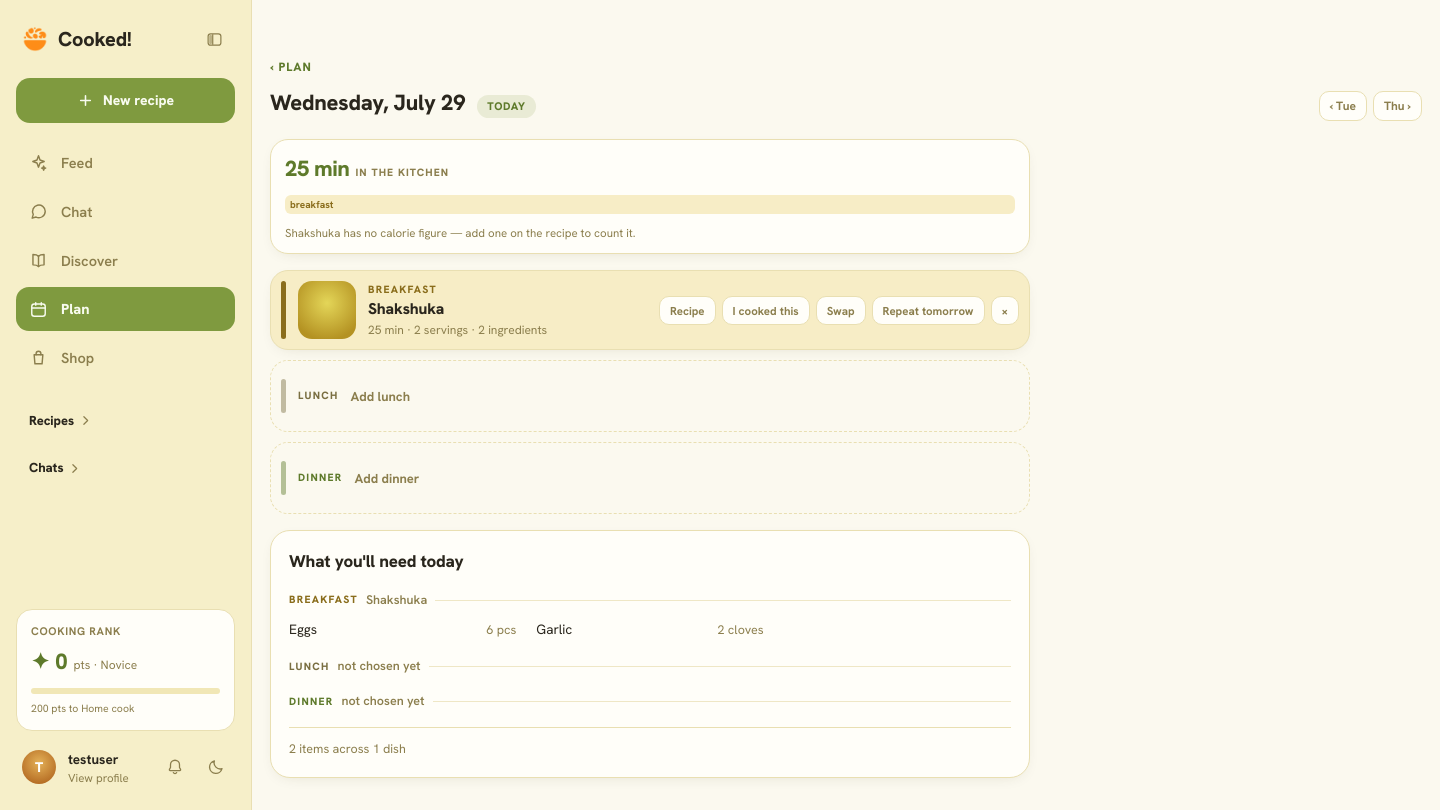
Test: the day page › names the next slot before you pick, when one is left
The width and height of the screenshot is (1440, 810).
Click the button with aria-label "add a recipe for lunch".
click(318, 395)  # box [270,360,1030,432]
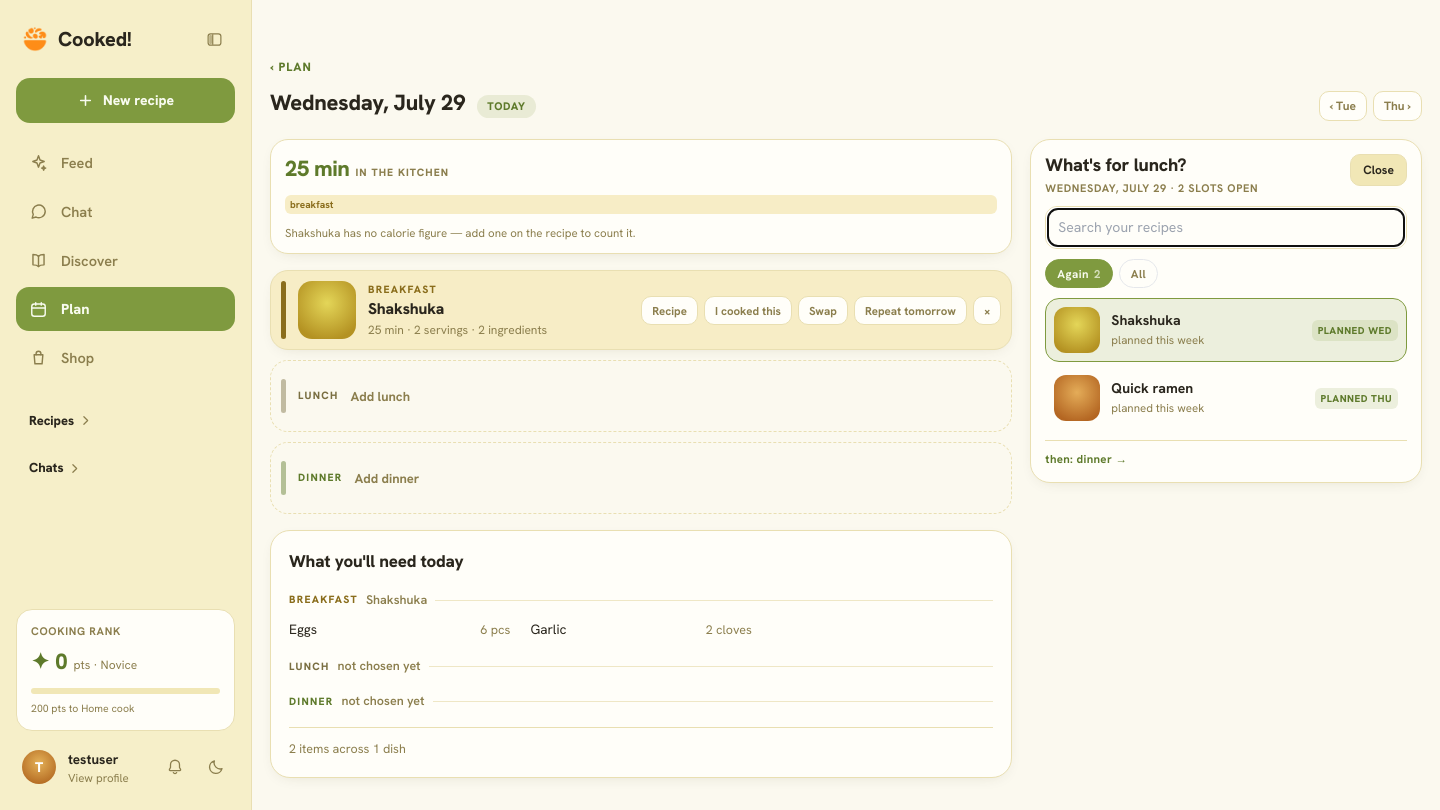
Now the heading "What's for lunch?" is shown, box [1045,153,1186,176]
Now the text "then: dinner →" is shown, box [1045,440,1407,468]
